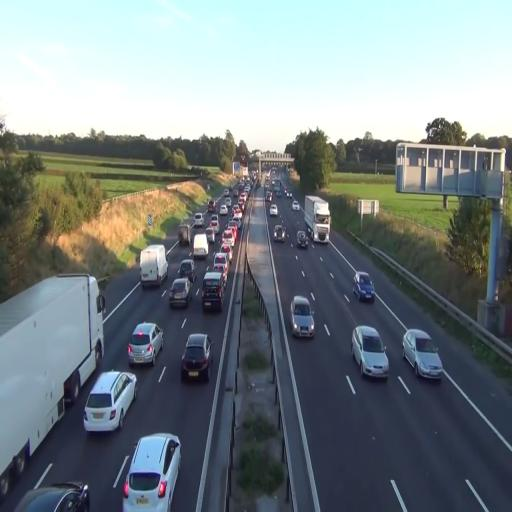vehicle: (0, 273, 106, 502), (122, 433, 182, 512), (83, 370, 137, 433), (13, 482, 90, 512), (351, 324, 390, 378), (402, 328, 443, 378), (128, 321, 163, 365), (180, 333, 212, 381), (304, 194, 331, 243), (140, 244, 168, 290), (304, 196, 331, 243), (290, 294, 316, 338), (201, 269, 223, 314), (170, 278, 192, 310), (354, 270, 374, 300), (178, 258, 195, 283), (273, 224, 288, 244), (296, 229, 308, 249)
